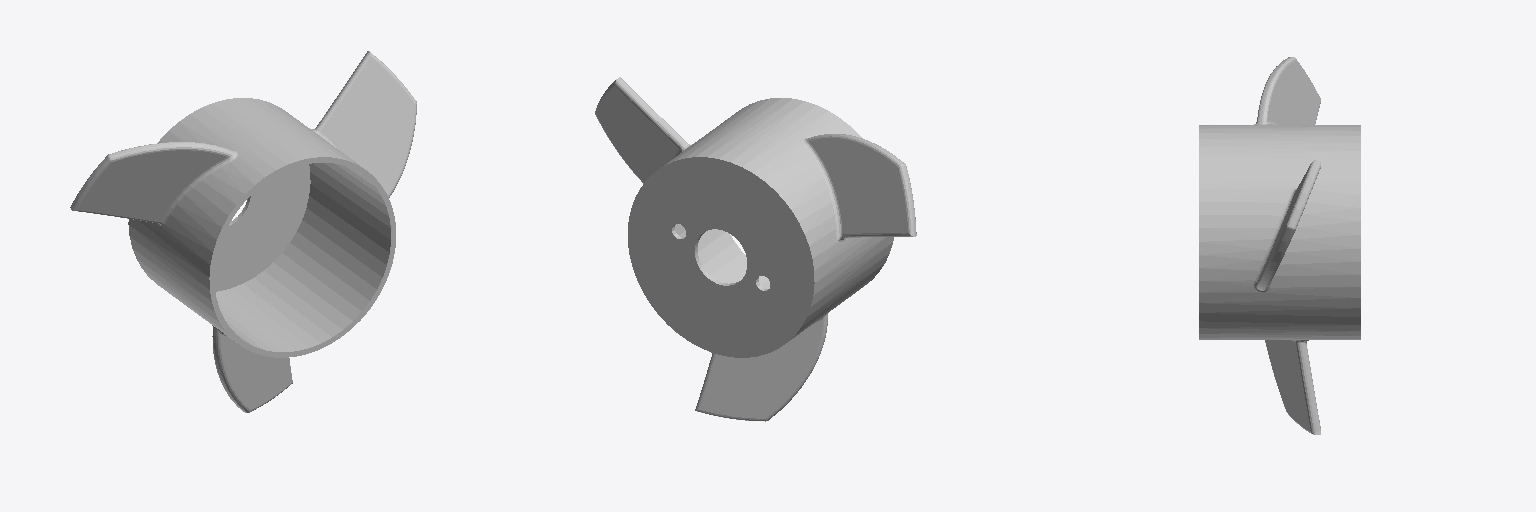
The model's file is t200_cw_prop.obj.
The picture shows the model from 3 angles: view 1: azimuth 30°, elevation 25°; view 2: azimuth 150°, elevation 25°; view 3: azimuth 270°, elevation 25°; orthographic projection.
Visible parts, largest first — view 1: obj1; view 2: obj1; view 3: obj1.
Part boxes in pixels (x1,y1,x2,y2): obj1: (70,51,416,412); obj1: (595,77,916,421); obj1: (1199,57,1360,434).
Size of the model in its own units: 0.0711 by 0.0653 by 0.03.